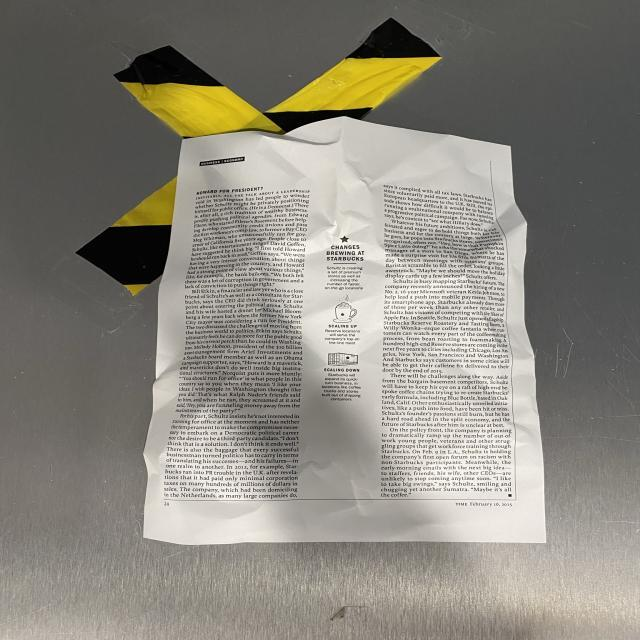document: (143, 118, 545, 544)
